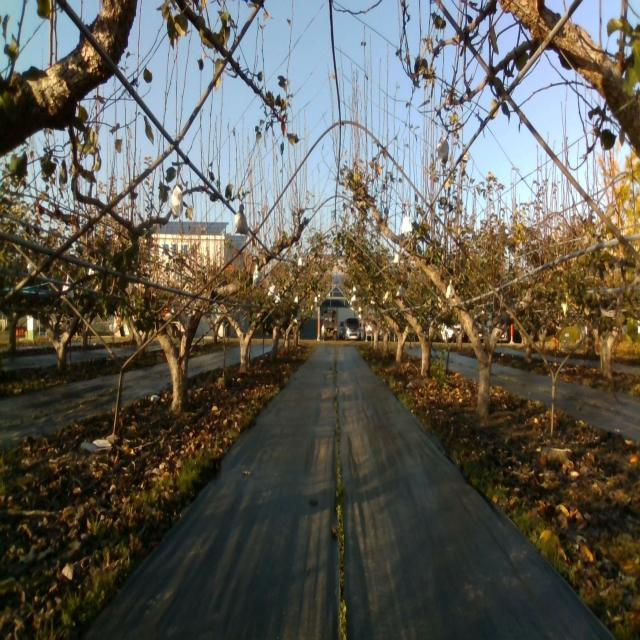pearbags: (232, 204, 250, 236), (170, 185, 184, 220), (436, 135, 448, 164)
